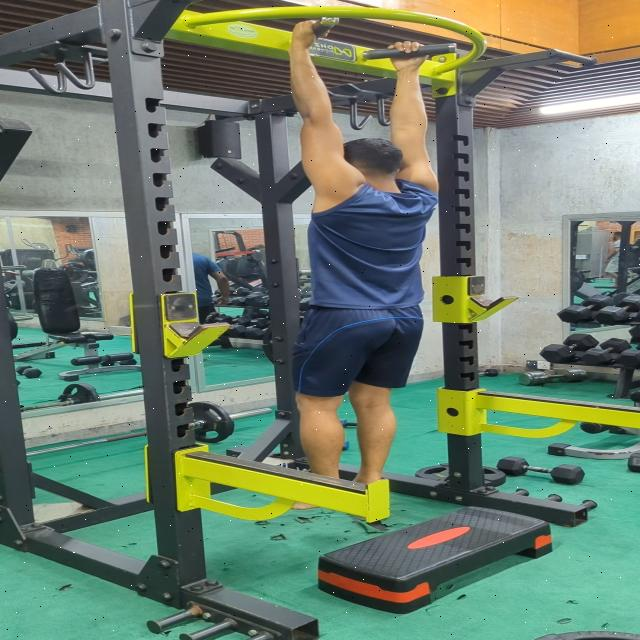Normal_PullUps: (278, 21, 444, 516)
